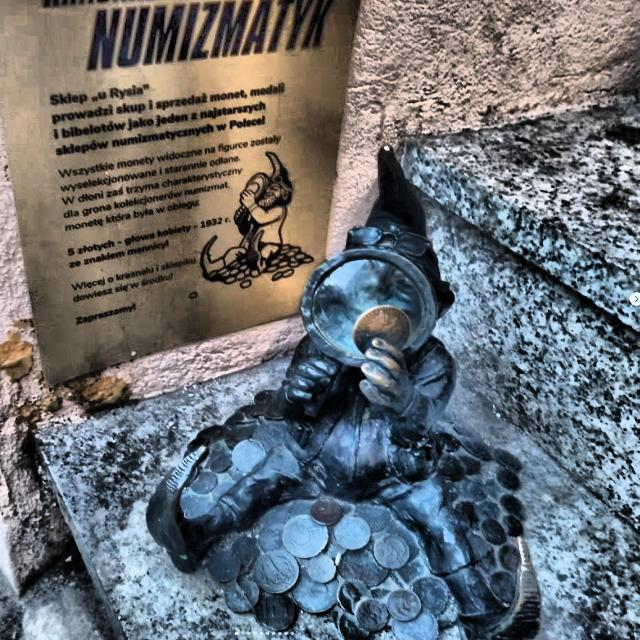Numizmatyk: (146, 148, 541, 640)
